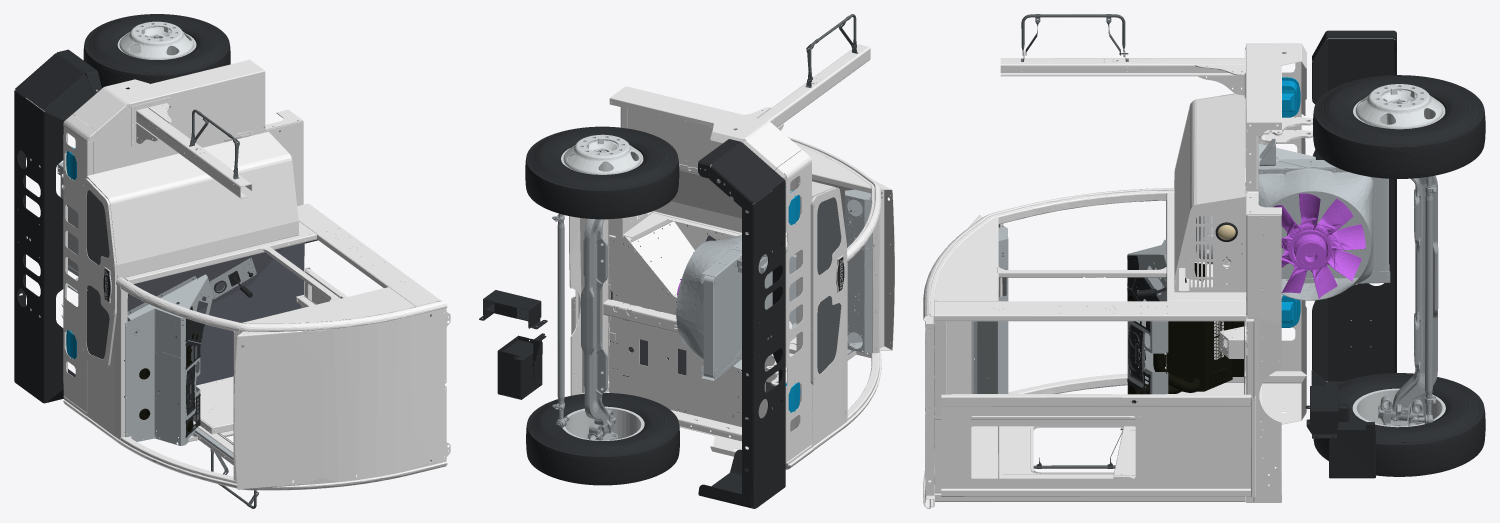
The model's file is tinker.obj.
3 views of the same model, side by side, from view 1: azimuth 30°, elevation 25°; view 2: azimuth 150°, elevation 25°; view 3: azimuth 270°, elevation 25° (orthographic). The views are drawn at different scales.
Visible parts, largest first — view 1: obj_2, obj_22, obj_13, obj_33, obj_30, obj_16, obj_17, obj_29, obj_1, obj_0, obj_8, obj_32 (+3 smaller); view 2: obj_2, obj_22, obj_30, obj_24, obj_32, obj_27, obj_23, obj_13, obj_16, obj_17, obj_29, obj_25 (+3 smaller); view 3: obj_2, obj_3, obj_22, obj_30, obj_32, obj_24, obj_27, obj_13, obj_28, obj_7, obj_23, obj_1 (+6 smaller).
Boxes of the visible parts, x1,y1,x2,y2 form: obj_2: (61, 59, 450, 490); obj_22: (14, 49, 101, 403); obj_13: (125, 274, 233, 460); obj_33: (127, 242, 304, 392); obj_30: (83, 14, 230, 89); obj_16: (82, 178, 116, 367); obj_17: (86, 190, 109, 358); obj_29: (119, 21, 193, 59); obj_1: (190, 376, 233, 449); obj_0: (189, 109, 258, 508); obj_8: (185, 306, 205, 437); obj_32: (57, 162, 127, 293); obj_2: (569, 44, 894, 469); obj_22: (698, 139, 785, 508); obj_30: (525, 126, 679, 219); obj_24: (526, 393, 679, 485); obj_32: (676, 234, 796, 381); obj_27: (552, 149, 618, 440); obj_23: (479, 290, 547, 399); obj_13: (845, 189, 876, 355); obj_16: (810, 187, 847, 386); obj_17: (817, 197, 840, 373); obj_29: (563, 134, 641, 174); obj_25: (562, 406, 644, 440); obj_2: (923, 43, 1312, 508); obj_3: (941, 394, 1255, 496); obj_22: (1311, 30, 1396, 385); obj_30: (1313, 75, 1485, 178); obj_32: (1196, 138, 1390, 300); obj_24: (1313, 373, 1485, 476); obj_27: (1378, 100, 1438, 426); obj_13: (971, 224, 1168, 403); obj_28: (1263, 193, 1365, 298); obj_7: (1128, 263, 1243, 394); obj_23: (1305, 386, 1375, 478); obj_1: (1003, 426, 1135, 478).
Bounding box in the file's own units: 94.83 × 118 × 136.
